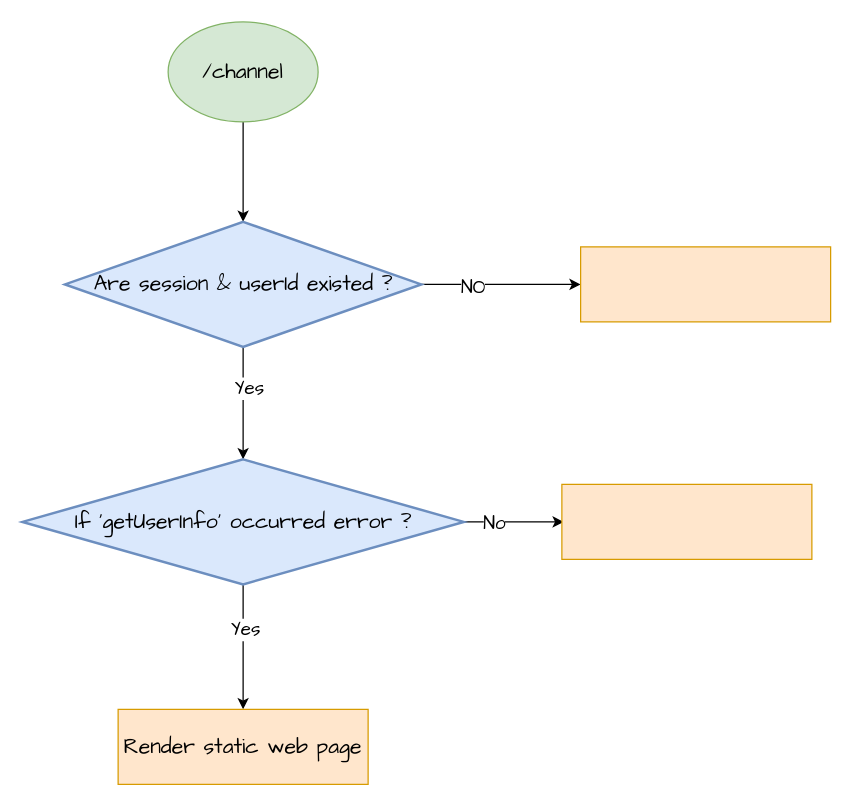
This 853x806 diagram has some shape labels left out. The centre of each missing label's shape, as x and y in pixels:
Redirect to auth/login: (705,284)
Render channel.pug: (686,521)
